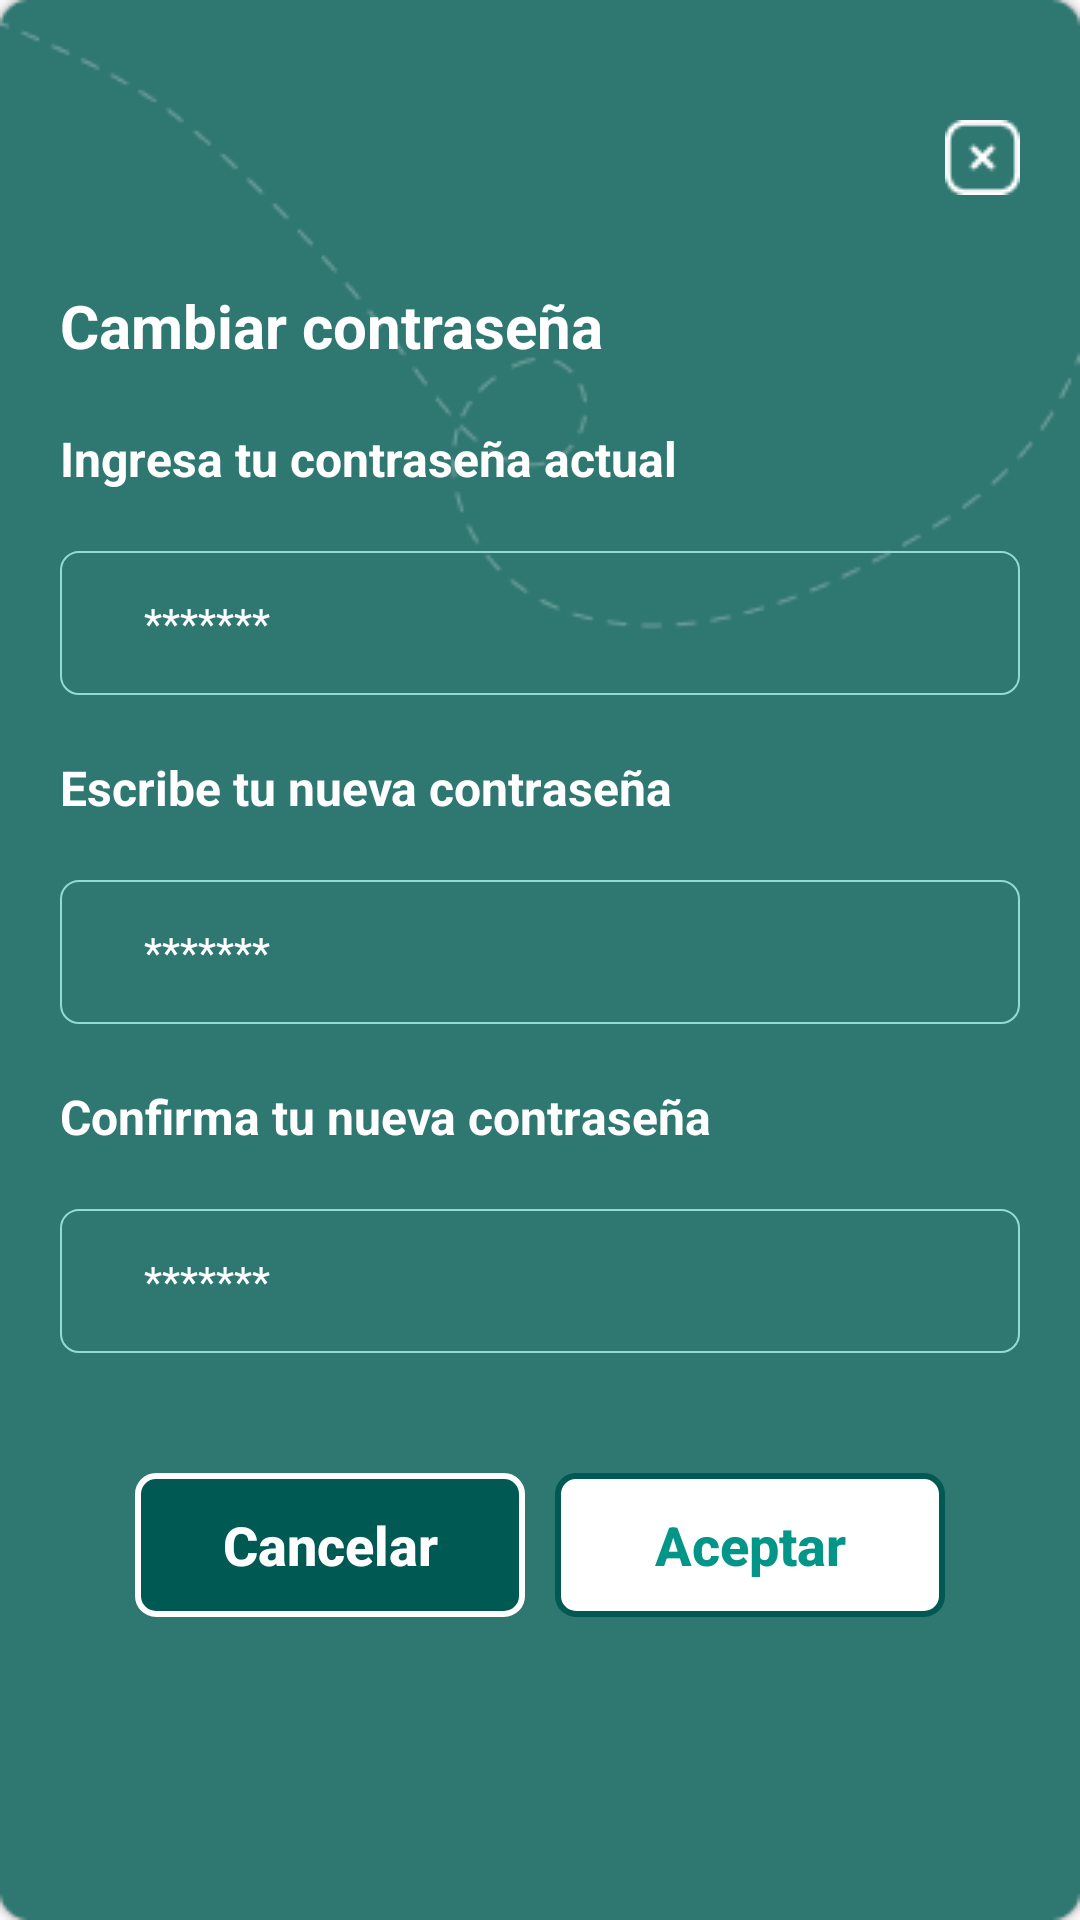

Screen size 1080x1920. Icon name, then its center in pixels as [x,y]:
close: [982,157]
